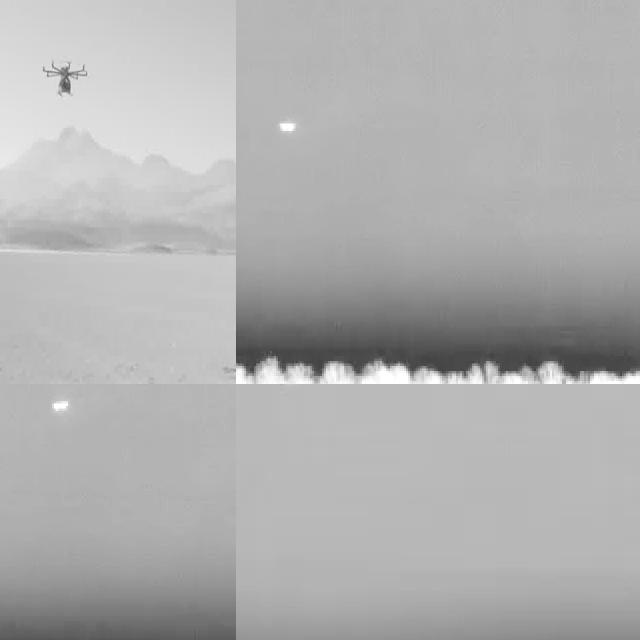0: (280, 384, 304, 403)
1: (269, 116, 305, 146), (42, 395, 78, 425)
drone: (43, 58, 88, 100)
